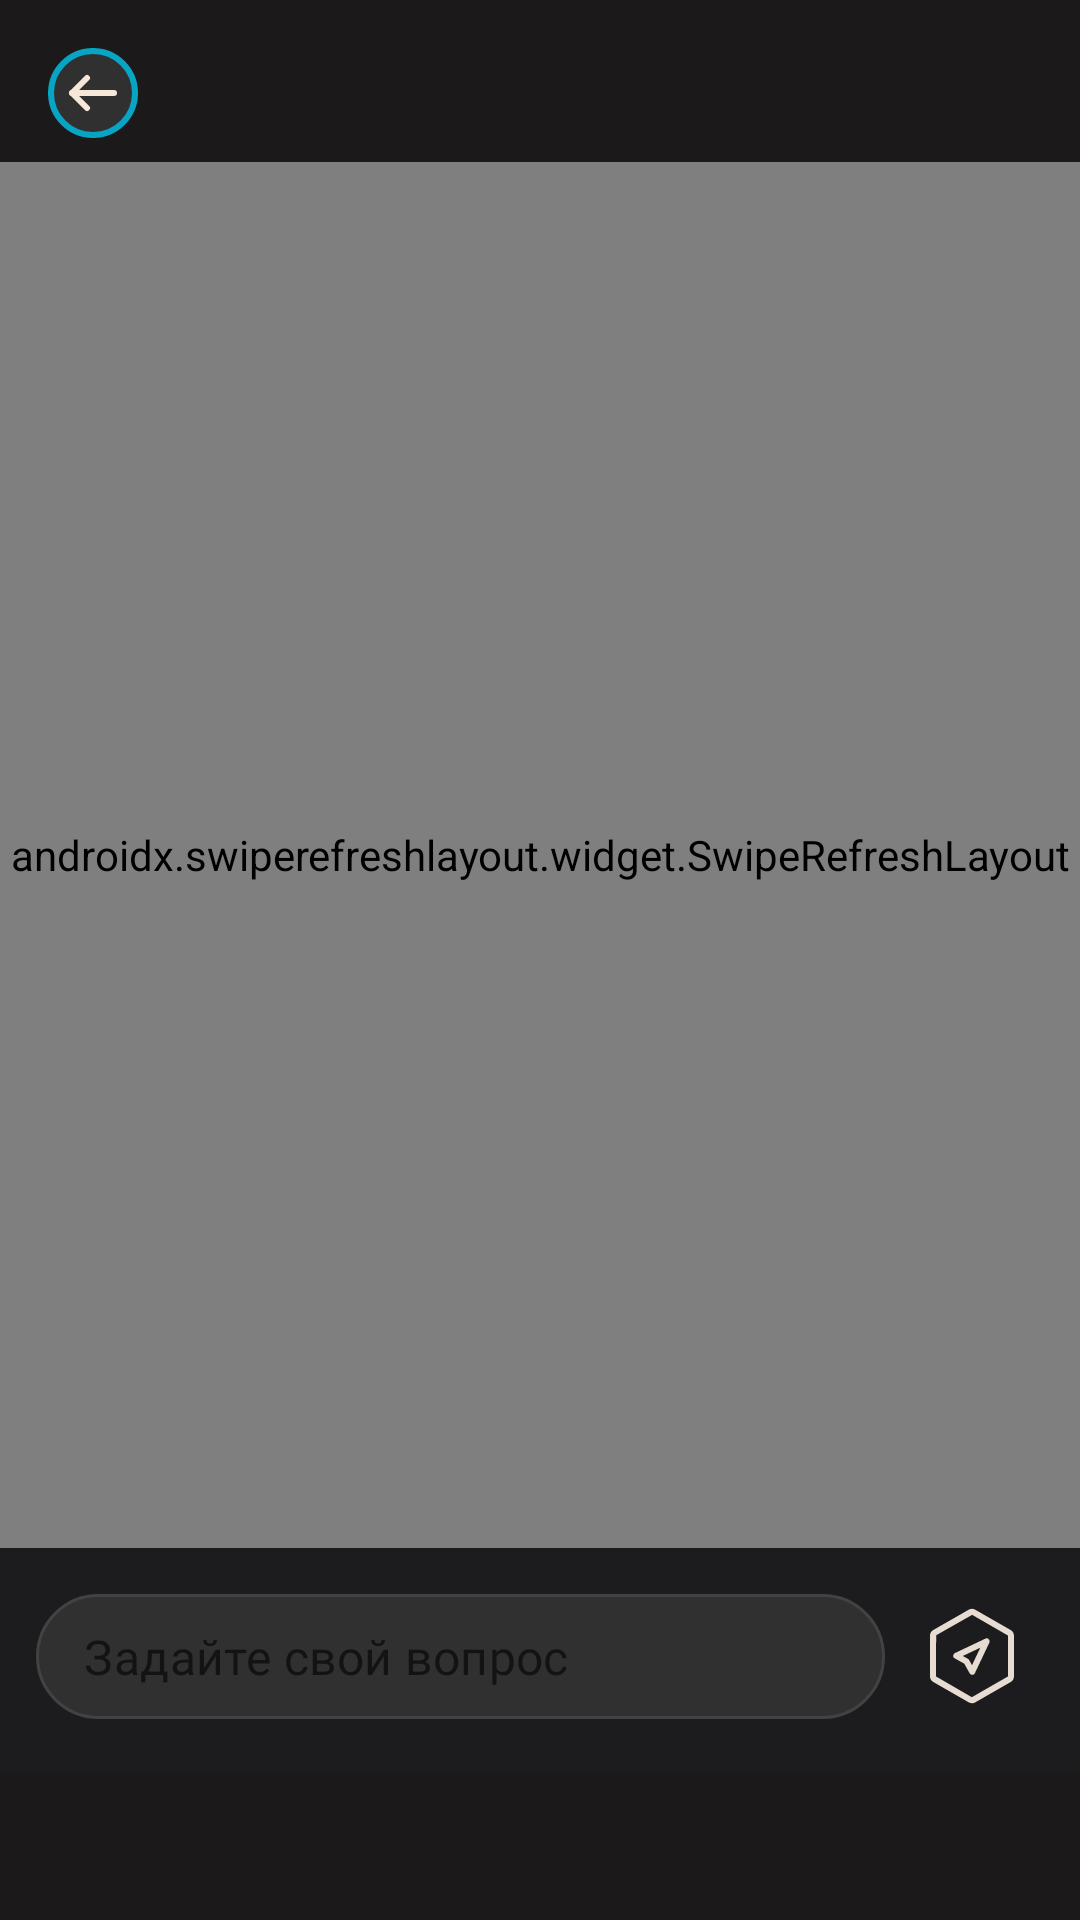

Screen size 1080×1920. Icon name, then its center in pixels as point (x, y):
Назад: point (93, 93)
Отправить сообщение: point (972, 1656)
